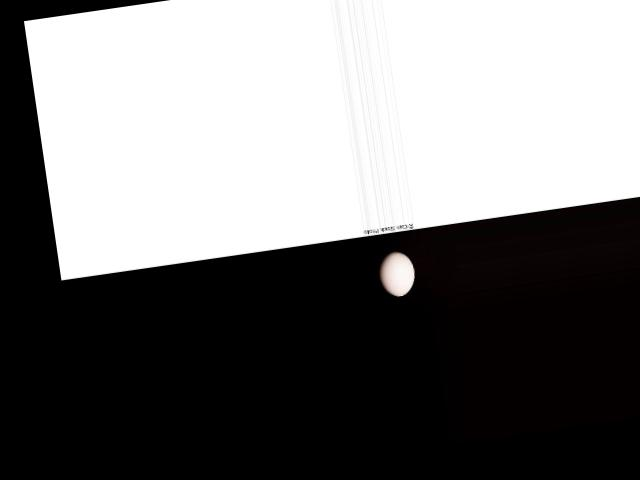egg: (376, 248, 416, 298)
